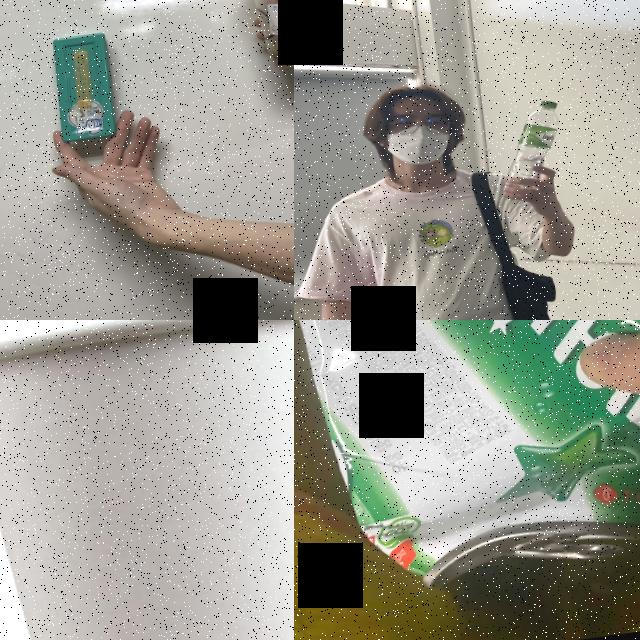bottle: (490, 98, 570, 194)
cup: (0, 320, 294, 640), (239, 0, 294, 75)
